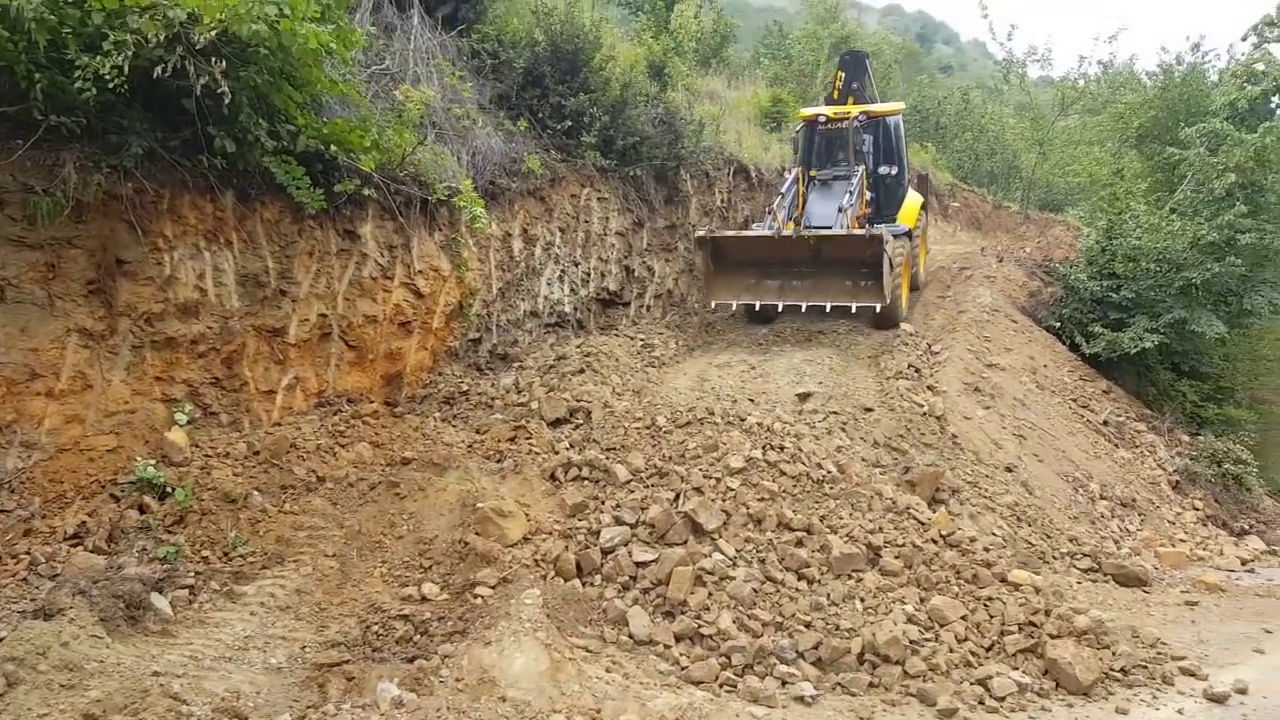wheel loader: (695, 47, 929, 332)
